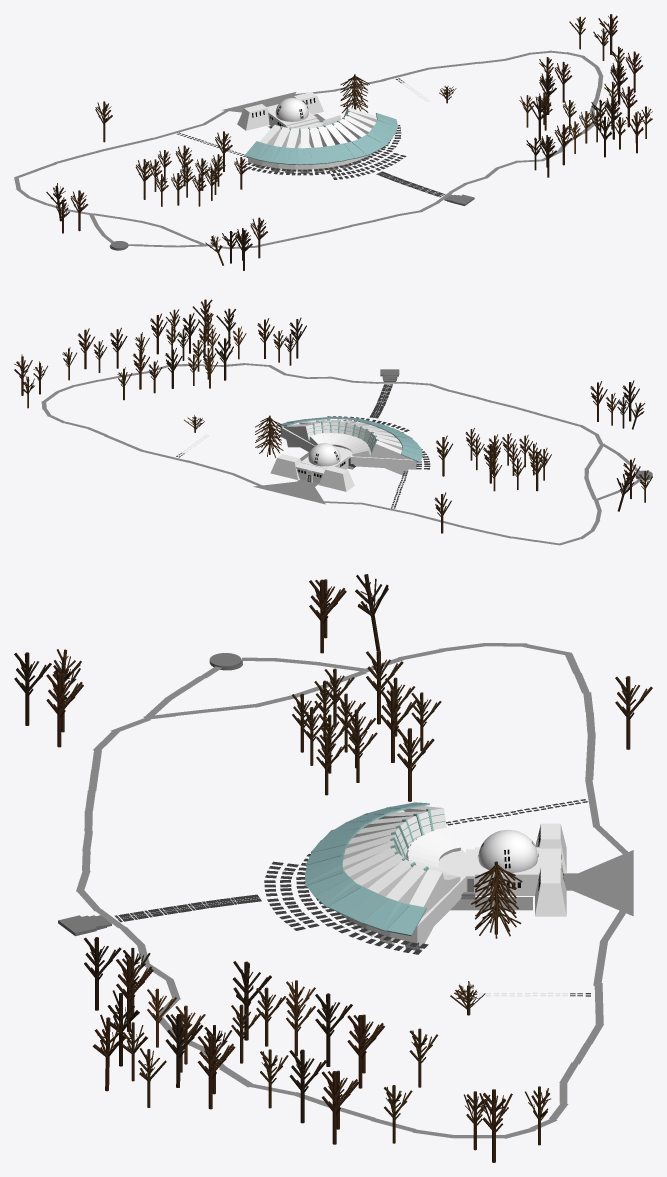
File: asmundarsafn_04_01.obj
The picture shows the model from 3 angles, top to bottom: view 1: azimuth 30°, elevation 25°; view 2: azimuth 150°, elevation 25°; view 3: azimuth 270°, elevation 25°; orthographic projection. The views are drawn at different scales.
Visible parts, largest first — view 1: Plane.001, Cube.047, Cube.033, Plane.131, syningarsalur, Sphere, h_hlid, Cylinder.066; view 2: Plane.001, Cube.033, syningarsalur, Cube.047, h_hlid, Sphere, v_hlid, Cylinder.066; view 3: Plane.001, Cube.033, Cube.047, Plane.131, syningarsalur, Sphere, v_hlid, Cylinder.066, innanhus, Plane.067.
Part boxes in pixels (x1,y1,x2,y2): Plane.001: (14,50,603,250); Cube.047: (244,113,398,165); Cube.033: (255,107,376,173); Plane.131: (242,125,406,179); syningarsalur: (248,122,373,169); Sphere: (275,98,308,121); h_hlid: (237,104,269,130); Cylinder.066: (340,74,369,113); Plane.001: (41,363,650,545); Cube.033: (283,420,411,476); syningarsalur: (281,420,416,469); Cube.047: (276,416,422,462); h_hlid: (319,466,354,491); Sphere: (308,443,340,466); v_hlid: (270,454,301,479); Cylinder.066: (255,415,283,457); Plane.001: (58,643,633,1138); Cube.033: (342,806,460,950); Cube.047: (304,802,429,936); Plane.131: (264,850,428,954); syningarsalur: (341,810,465,943); Sphere: (478,829,537,872); v_hlid: (535,867,566,916); Cylinder.066: (473,861,522,938); innanhus: (475,847,540,895); Plane.067: (114,894,261,922).
Size of the model in its own units: 160 by 12.29 by 80.33.
